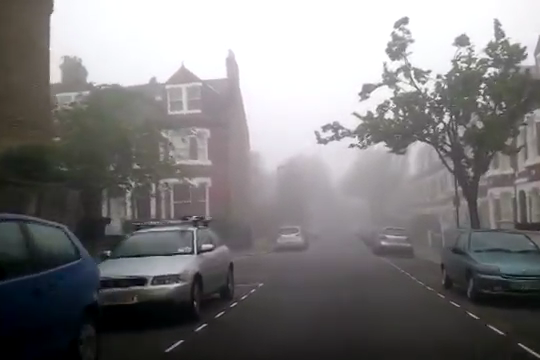car: (87, 213, 235, 318), (1, 213, 104, 360), (438, 225, 540, 308), (373, 225, 412, 256), (274, 225, 308, 252)
